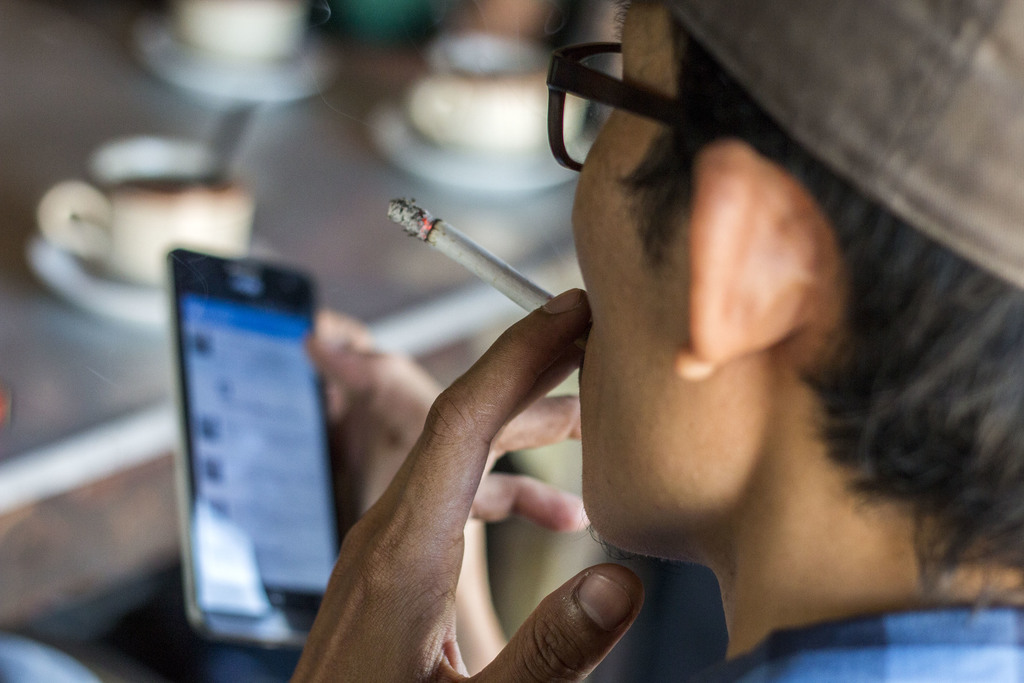Mobile-phone: (156, 246, 351, 641)
